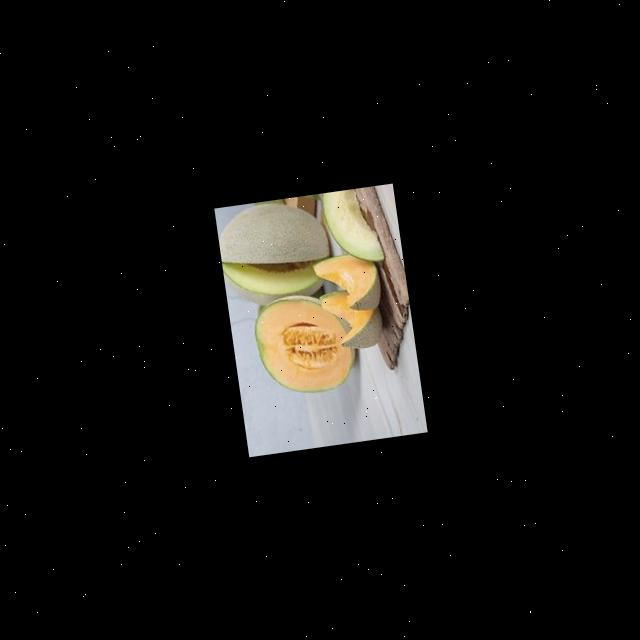Hami Melon: (250, 287, 360, 398), (311, 249, 382, 315), (318, 285, 386, 353)
